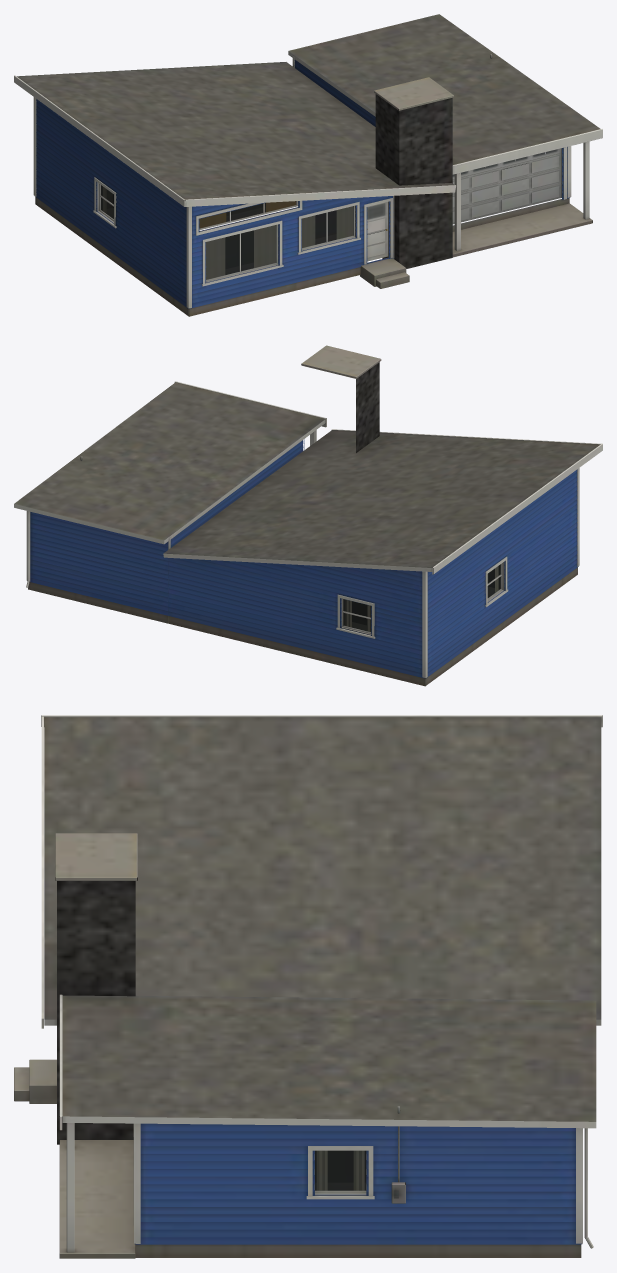
Rendered from ranch_blue-low.glb.
3 views of the same model, one above another, from view 1: azimuth 30°, elevation 25°; view 2: azimuth 150°, elevation 25°; view 3: azimuth 270°, elevation 25° (orthographic). The views are drawn at different scales.
Parts seen in each view (by area): view 1: ranch_blue; view 2: ranch_blue; view 3: ranch_blue.
Part boxes in pixels (bbox=[...]): ranch_blue: bbox=[14, 14, 602, 316]; ranch_blue: bbox=[14, 345, 602, 686]; ranch_blue: bbox=[14, 715, 602, 1258].
Bounding box in the file's own units: 15.93 × 5.91 × 11.63.
2 materials, 2 textured.
